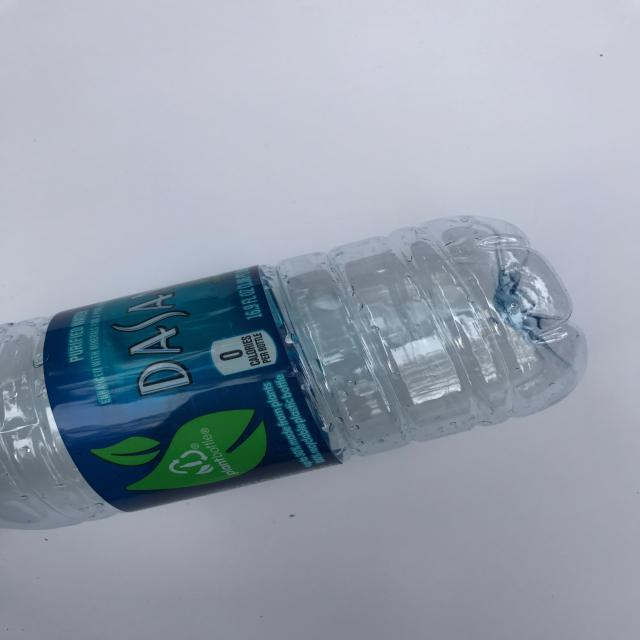plastic: (2, 214, 586, 530)
